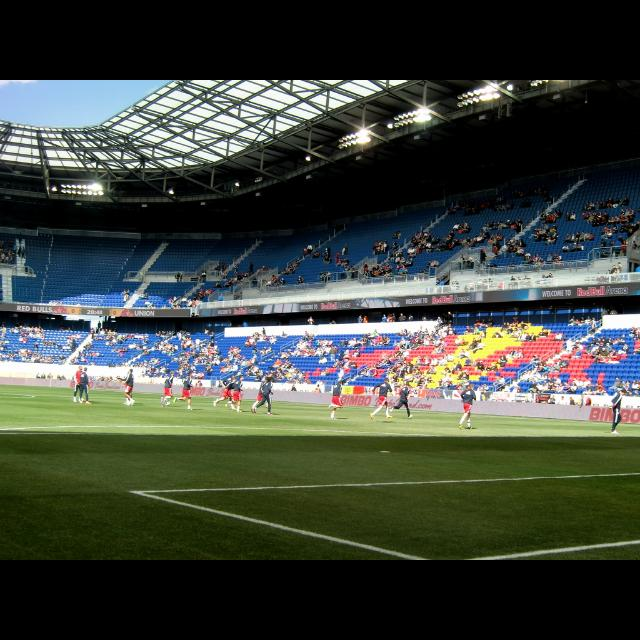Football: (166, 400, 170, 404)
